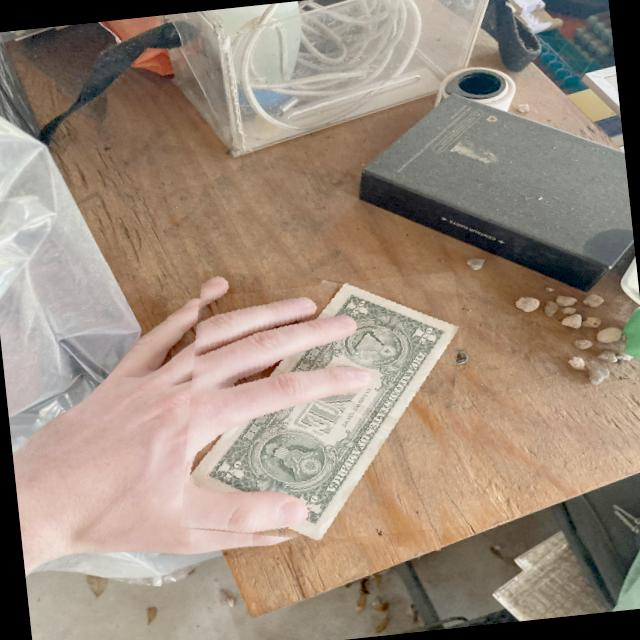one: (185, 248, 461, 561)
